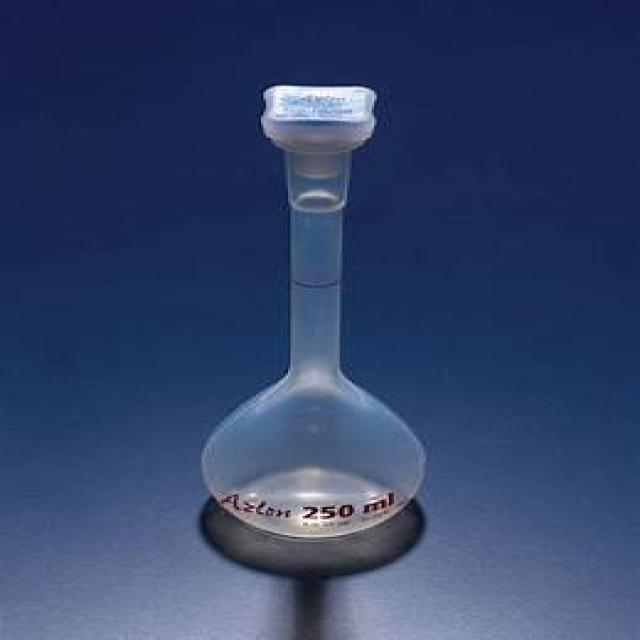Volumetric flask: (203, 70, 429, 534)
